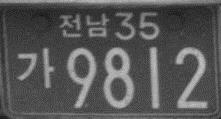1: (147, 45, 163, 112)
2: (174, 46, 209, 111)
3: (113, 10, 136, 41)
5: (138, 10, 160, 40)
8: (102, 46, 135, 109)
9: (66, 46, 97, 109)
가: (16, 46, 54, 89)
전남_O: (58, 12, 109, 38)
